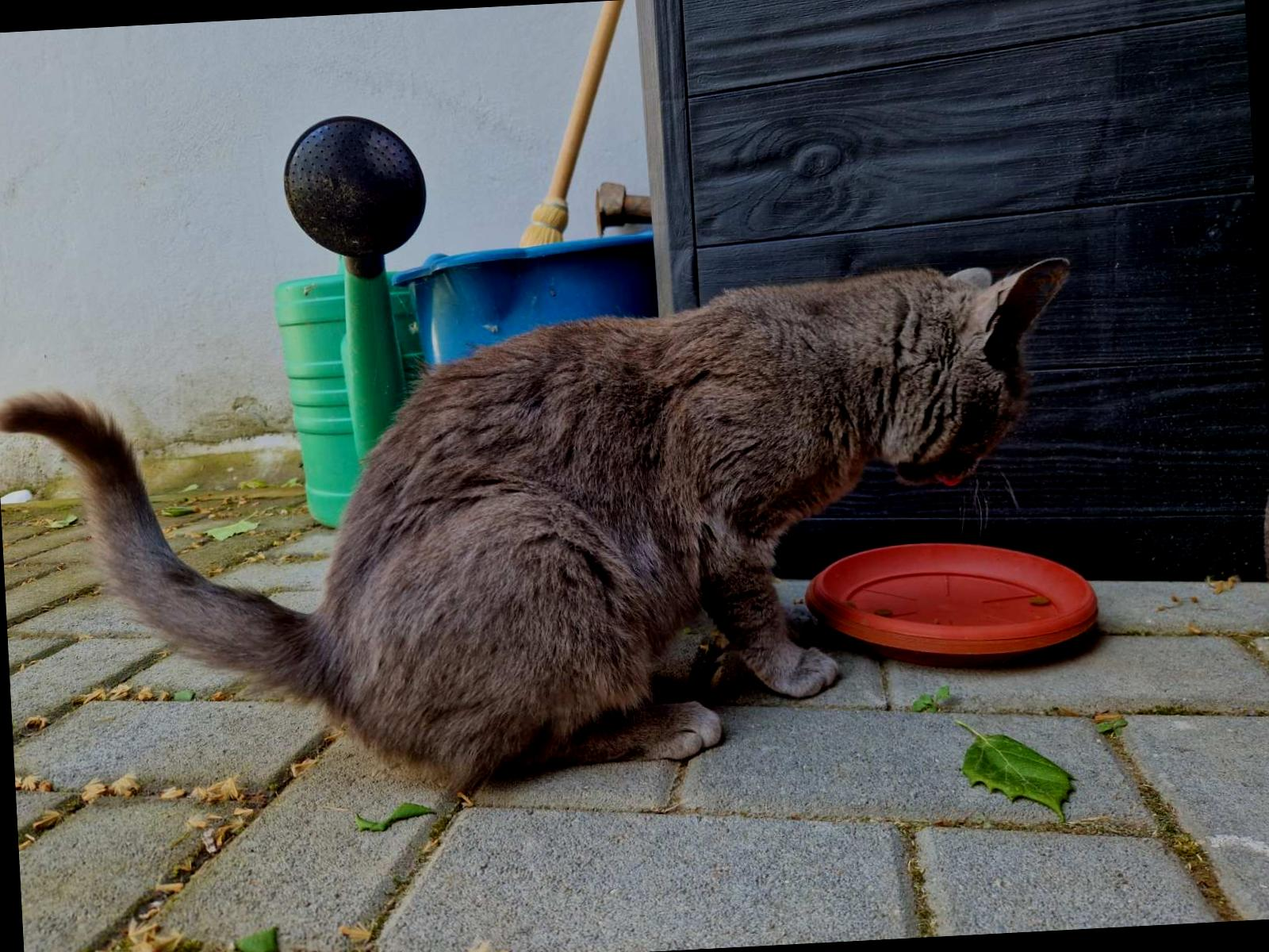macka: (0, 253, 1098, 804)
